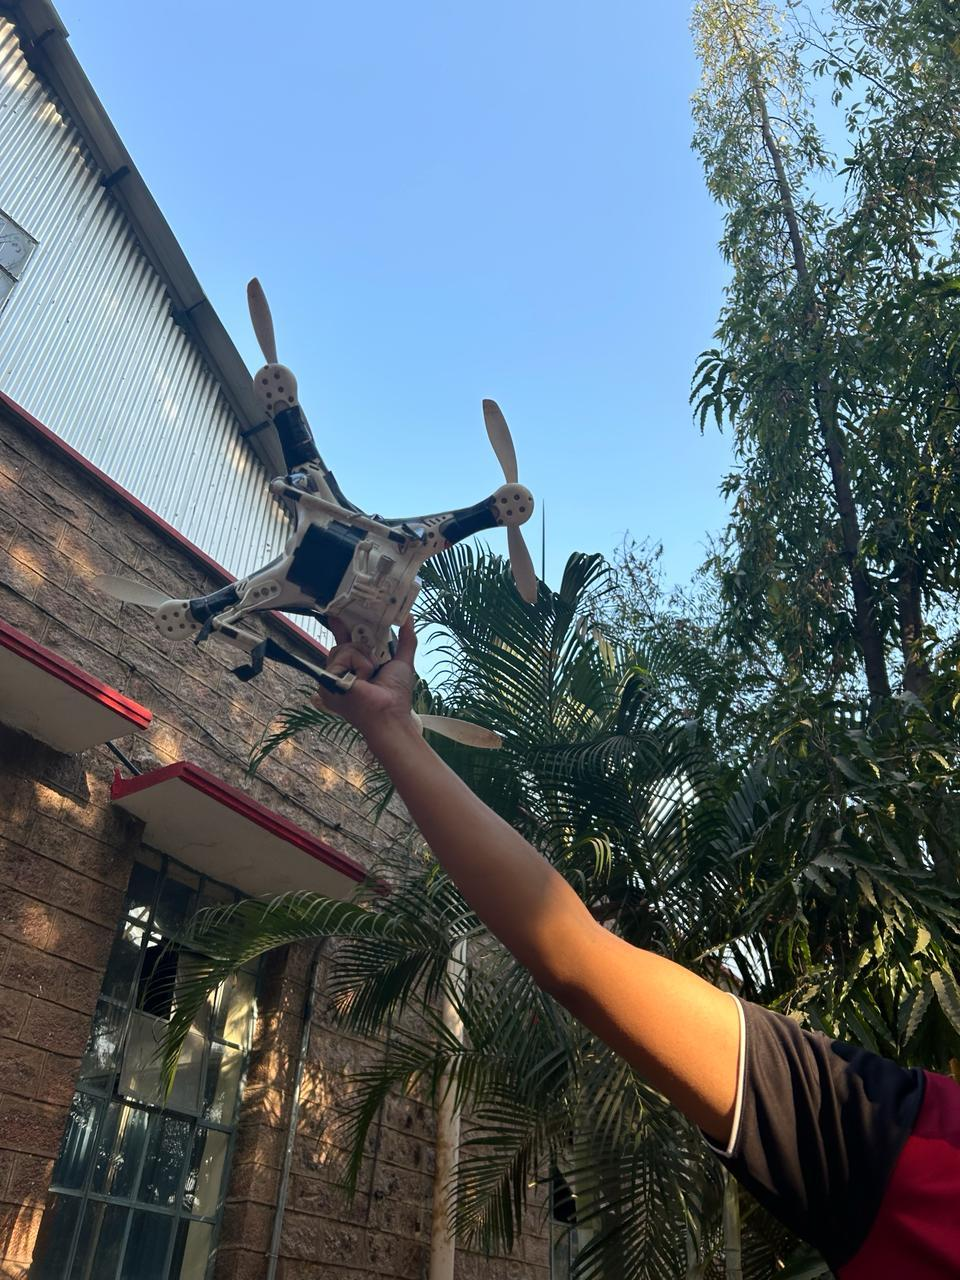drone: (100, 319, 559, 734)
